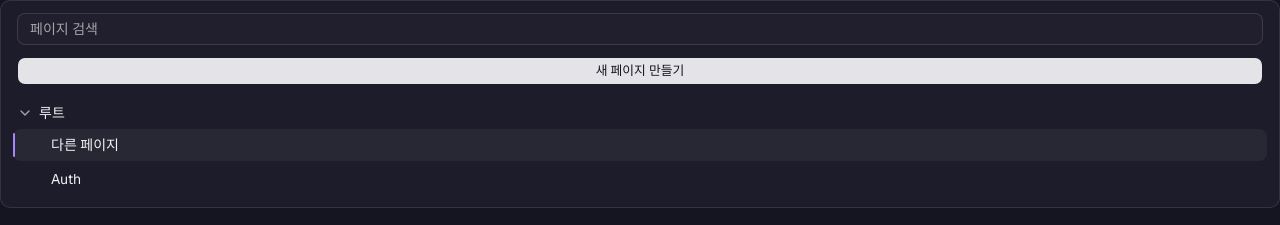
it: PageTreeSidebar › 검색어를 비우면 트리 전체가 복원된다
This screenshot has width=1280, height=225.
In the search field named "페이지 트리 검색": (640,29) [17, 13, 1263, 45], type "auth"
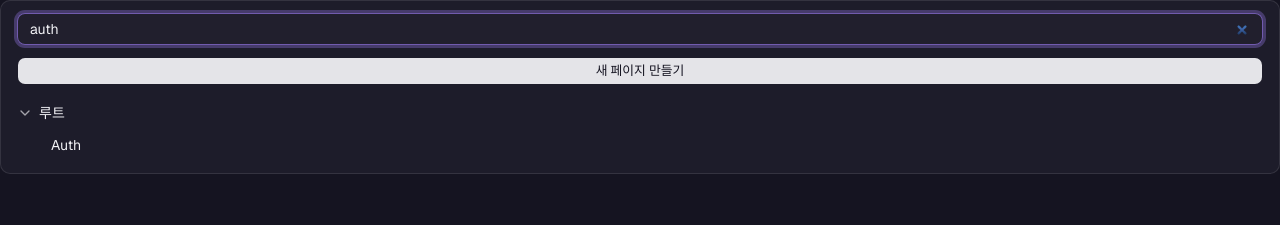
Check: the link "다른 페이지" is gone
Clear the search field named "페이지 트리 검색": (640,29) [17, 13, 1263, 45]
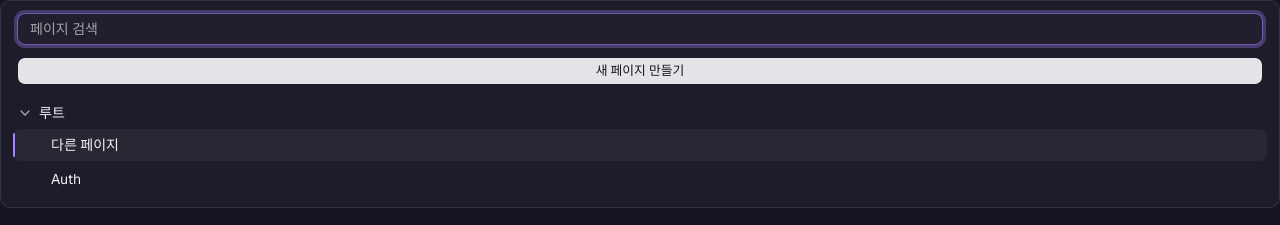
Check: the link "Auth" is shown, box [51, 170, 81, 188]
Check: the link "다른 페이지" is shown, box [51, 136, 119, 154]
